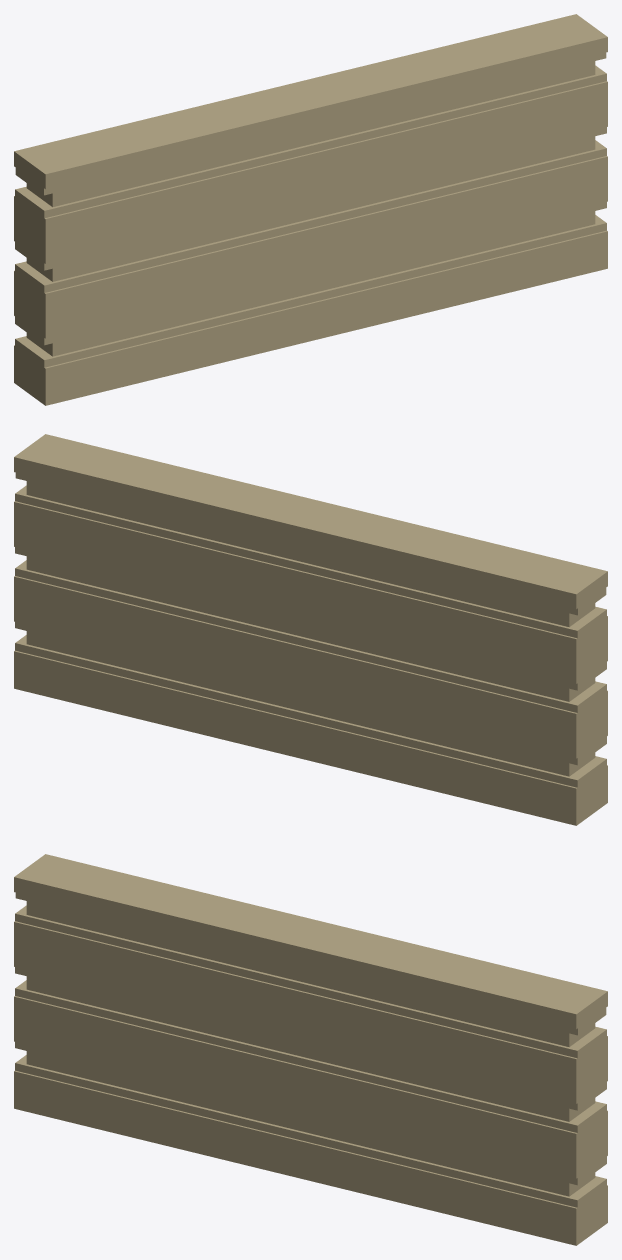
The model's file is wall.fbx.
3 renders of one model, top to bottom at view 1: azimuth 30°, elevation 25°; view 2: azimuth 150°, elevation 25°; view 3: azimuth 330°, elevation 25°, orthographic.
Visible parts, largest first — view 1: M_wall; view 2: M_wall; view 3: M_wall.
Part boxes in pixels (x1,y1,x2,y2): M_wall: (14, 14, 607, 405); M_wall: (14, 434, 607, 825); M_wall: (14, 854, 607, 1245).
Size of the model in its own units: 2039 by 802 by 198.
